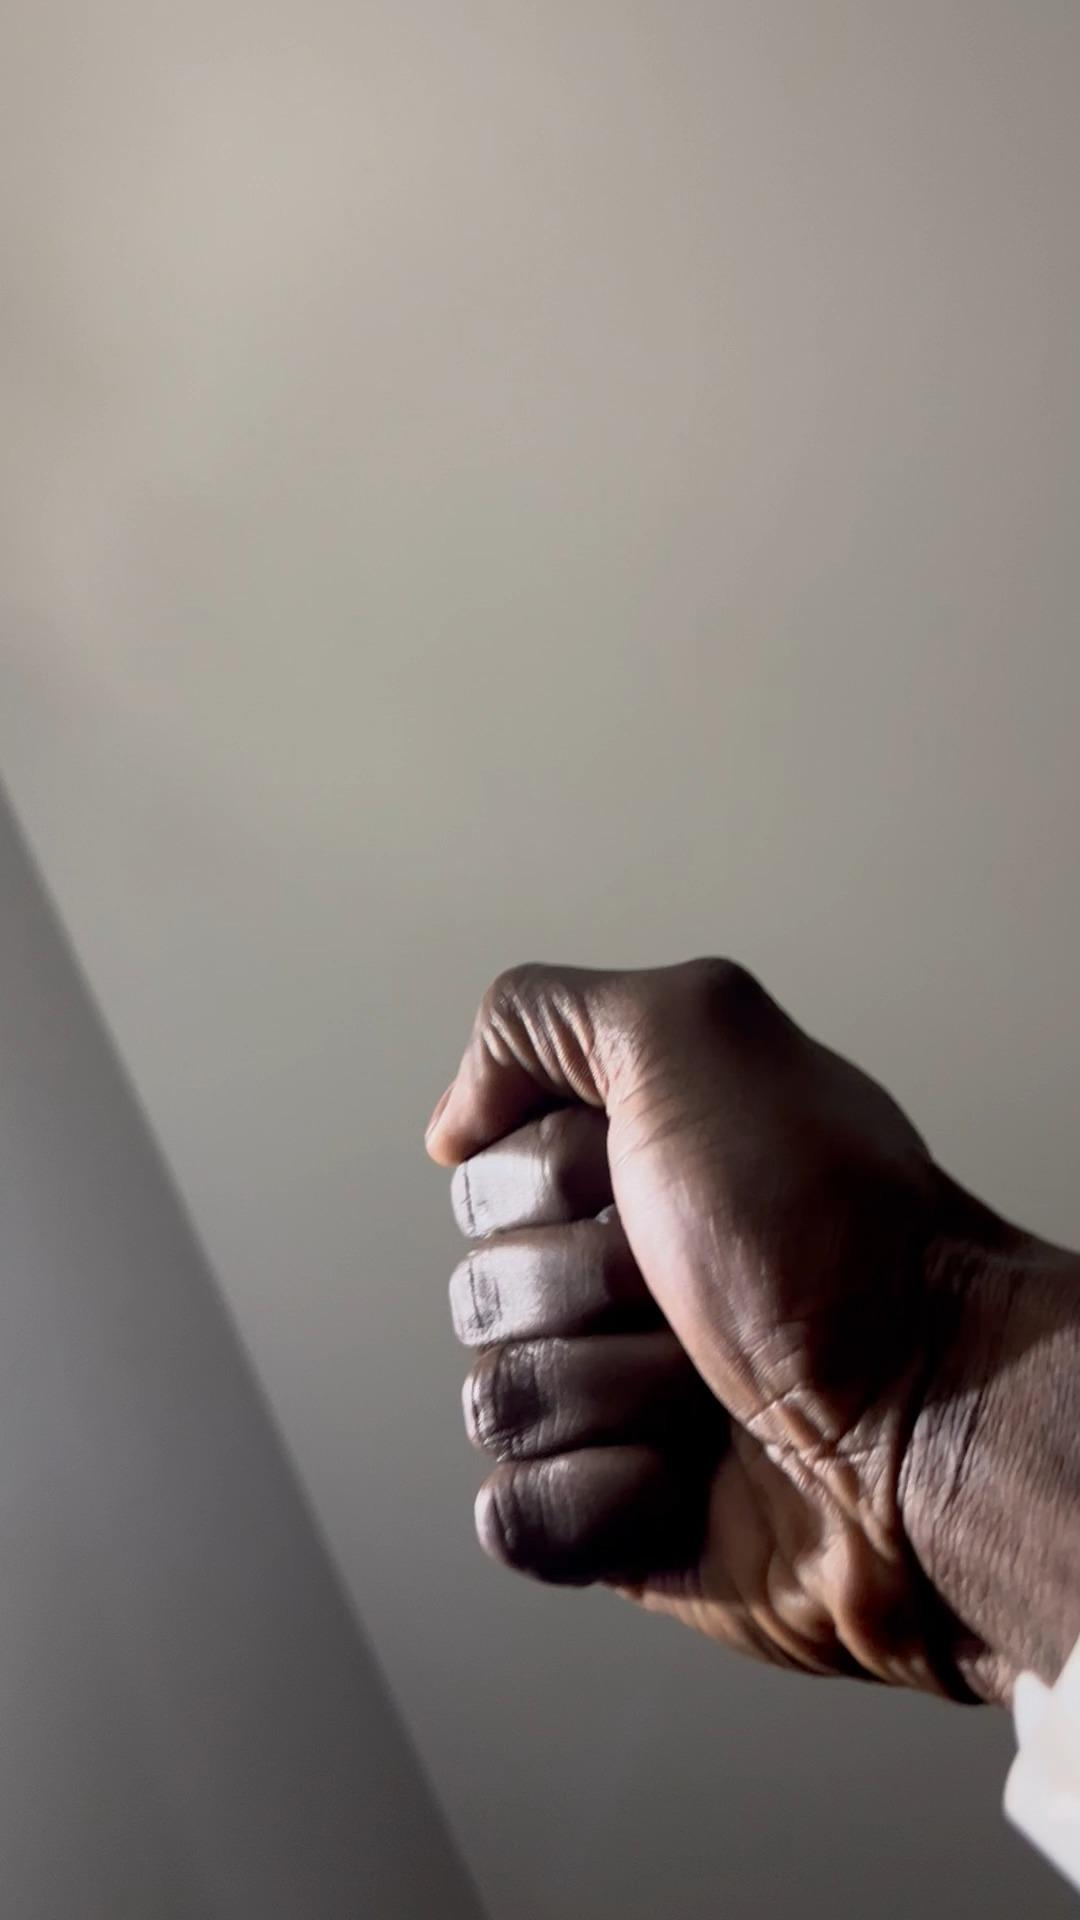Rock: (430, 949, 1027, 1698)
